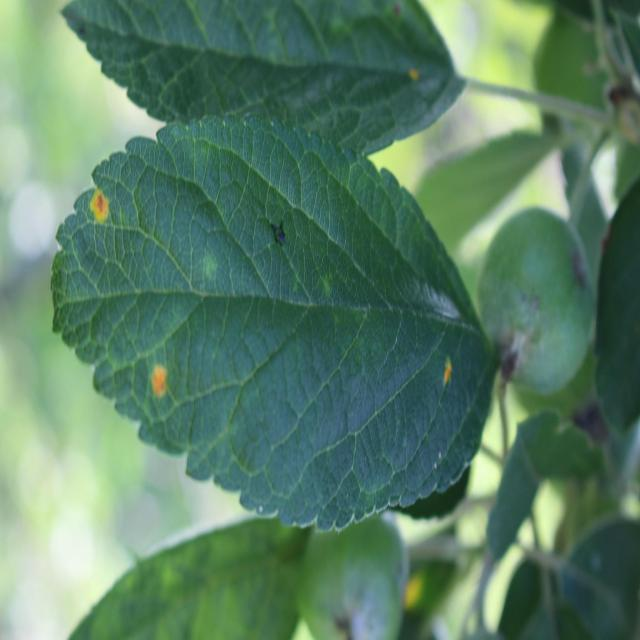Rust: (81, 176, 120, 232), (144, 347, 174, 418), (427, 357, 463, 395)
